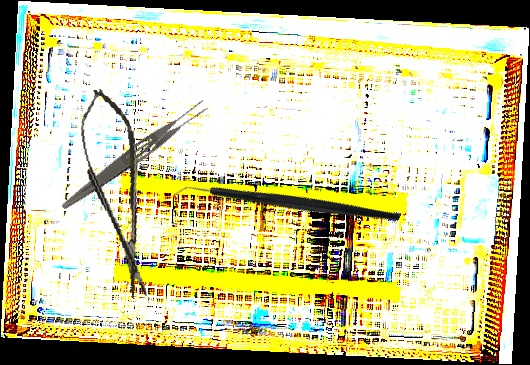Chopper: (171, 114, 402, 298)
Dressing Forceps: (59, 95, 211, 218)
Micro Scissor: (74, 85, 160, 303)
